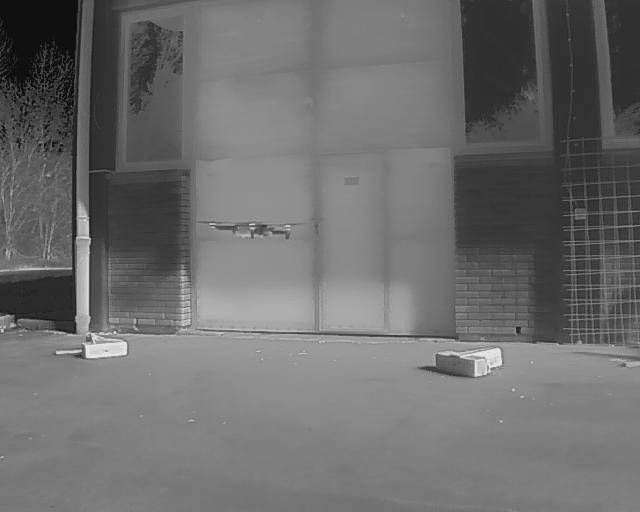drone: (192, 204, 306, 262)
